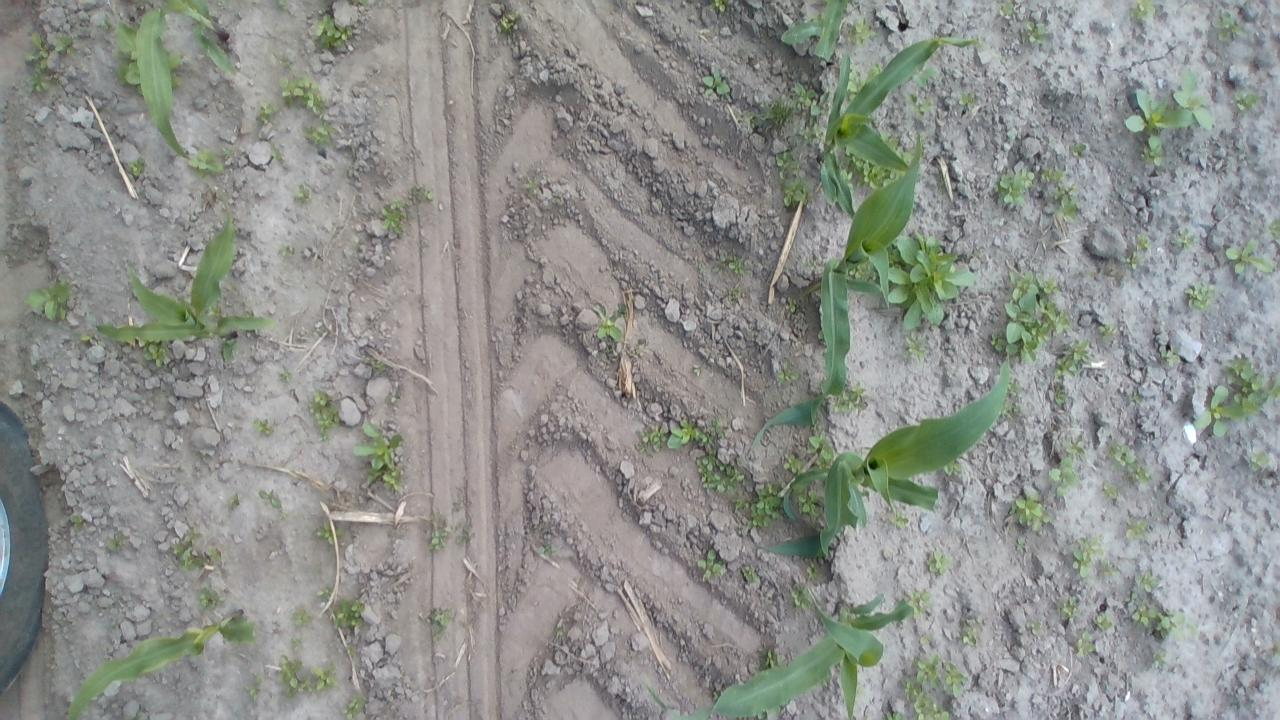Maize: (750, 136, 920, 449), (758, 355, 1012, 560), (646, 590, 914, 720), (818, 37, 1006, 219), (80, 200, 276, 366), (64, 608, 255, 720), (137, 0, 238, 161), (781, 0, 850, 62)
Weeds: (885, 228, 981, 330), (990, 270, 1072, 363), (1124, 68, 1212, 133), (352, 421, 404, 493), (835, 146, 905, 191), (1194, 384, 1245, 437), (1224, 358, 1266, 415), (23, 276, 72, 320), (694, 449, 744, 492), (115, 22, 144, 96), (901, 678, 950, 720), (666, 417, 728, 449), (1108, 442, 1152, 485), (280, 75, 325, 115), (23, 31, 52, 93), (748, 481, 786, 528), (1224, 240, 1276, 274), (308, 390, 340, 443), (1009, 493, 1052, 532), (171, 526, 205, 571), (993, 168, 1034, 205), (791, 83, 830, 120), (1071, 535, 1103, 579), (591, 302, 627, 341), (1054, 339, 1088, 380), (315, 14, 353, 49), (746, 97, 790, 127), (807, 421, 835, 468), (879, 132, 916, 166), (829, 380, 868, 412), (381, 198, 413, 234), (276, 654, 302, 698), (1047, 458, 1077, 496), (187, 148, 222, 179), (794, 485, 826, 518), (1052, 184, 1079, 222), (302, 665, 338, 692), (332, 599, 364, 628), (696, 550, 726, 580), (913, 655, 940, 688), (780, 178, 810, 207), (635, 428, 667, 455), (846, 260, 882, 284), (944, 663, 970, 696), (1156, 612, 1186, 640), (1214, 12, 1242, 42), (772, 150, 802, 178), (847, 16, 875, 46), (701, 68, 731, 96), (1185, 284, 1217, 310), (431, 606, 454, 642), (302, 122, 336, 146), (844, 62, 864, 102), (711, 252, 747, 274), (427, 513, 448, 550), (1142, 134, 1166, 166), (1131, 571, 1159, 598), (140, 340, 169, 366), (1062, 434, 1087, 463), (904, 330, 926, 362), (196, 587, 226, 610), (1130, 601, 1156, 627), (799, 119, 824, 146), (789, 582, 812, 611), (909, 589, 930, 620), (167, 51, 184, 89), (1056, 596, 1082, 620), (342, 694, 365, 720), (926, 552, 952, 575), (907, 93, 933, 115), (1159, 346, 1183, 369), (1075, 630, 1096, 656), (1020, 22, 1046, 43), (912, 68, 939, 88), (258, 100, 280, 124), (1130, 0, 1156, 20), (244, 675, 264, 700), (777, 363, 799, 385), (498, 12, 522, 32), (998, 402, 1028, 418), (757, 648, 781, 668), (782, 454, 806, 474), (1232, 91, 1258, 109), (54, 34, 76, 55), (1124, 517, 1146, 538), (257, 490, 282, 508), (315, 522, 334, 545), (960, 622, 978, 646), (1250, 451, 1270, 471), (1174, 228, 1194, 248), (1124, 250, 1144, 270), (1040, 166, 1064, 182), (865, 62, 885, 81), (1266, 375, 1280, 402), (757, 705, 782, 720), (292, 608, 314, 625), (454, 523, 470, 546), (522, 174, 540, 194), (128, 156, 146, 176), (105, 534, 124, 552), (413, 185, 435, 200), (740, 565, 759, 582), (889, 510, 908, 527), (252, 419, 272, 435), (1098, 322, 1118, 338), (1094, 613, 1112, 630), (730, 494, 749, 510), (957, 92, 976, 108), (366, 357, 386, 372), (942, 460, 962, 475), (1134, 234, 1151, 251), (294, 185, 310, 202), (998, 0, 1014, 17), (1068, 141, 1087, 155), (1102, 482, 1118, 498), (1006, 380, 1022, 395), (1152, 651, 1166, 668), (1102, 559, 1116, 576), (1268, 219, 1280, 238), (316, 584, 332, 598), (206, 548, 222, 562), (785, 296, 798, 313), (730, 286, 743, 302), (538, 543, 556, 554), (882, 711, 904, 720), (710, 0, 726, 12), (918, 634, 937, 644), (278, 243, 292, 256), (70, 514, 82, 529), (806, 564, 818, 579), (1054, 389, 1066, 404), (99, 17, 111, 31), (808, 12, 824, 22), (270, 148, 282, 161), (228, 493, 240, 506), (1030, 621, 1042, 634), (385, 395, 399, 406), (278, 371, 292, 382), (1015, 536, 1025, 551), (936, 174, 946, 188), (292, 637, 302, 651), (78, 334, 94, 342), (692, 364, 702, 376), (212, 304, 224, 314), (1188, 623, 1198, 635), (801, 260, 816, 267), (278, 58, 291, 66), (1006, 130, 1016, 140), (346, 646, 356, 656), (856, 686, 866, 696), (1274, 640, 1280, 656), (224, 148, 234, 156), (244, 310, 254, 318), (533, 524, 542, 532), (712, 691, 720, 700), (1130, 395, 1140, 402), (336, 528, 344, 536), (552, 197, 561, 204), (276, 0, 286, 6), (358, 0, 368, 6), (278, 512, 288, 518), (634, 348, 642, 355), (697, 262, 704, 270), (316, 328, 324, 334), (818, 330, 824, 338), (354, 242, 361, 248), (554, 630, 560, 636)
